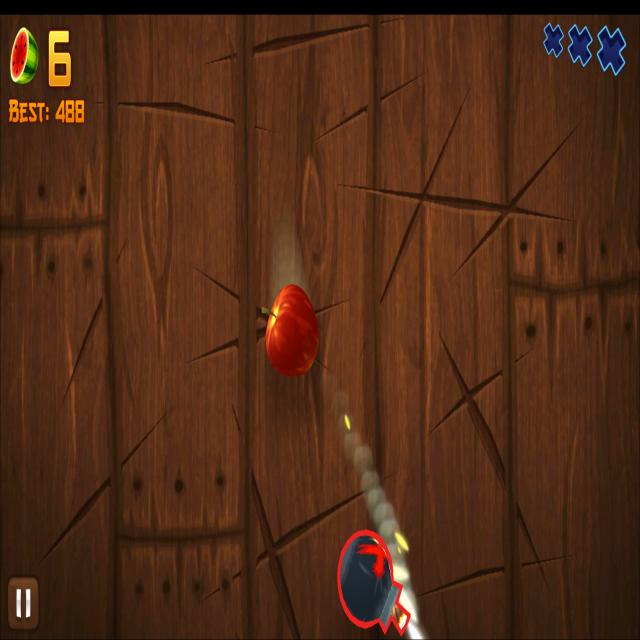bomb: (336, 530, 411, 640)
fruit: (264, 286, 318, 375)
